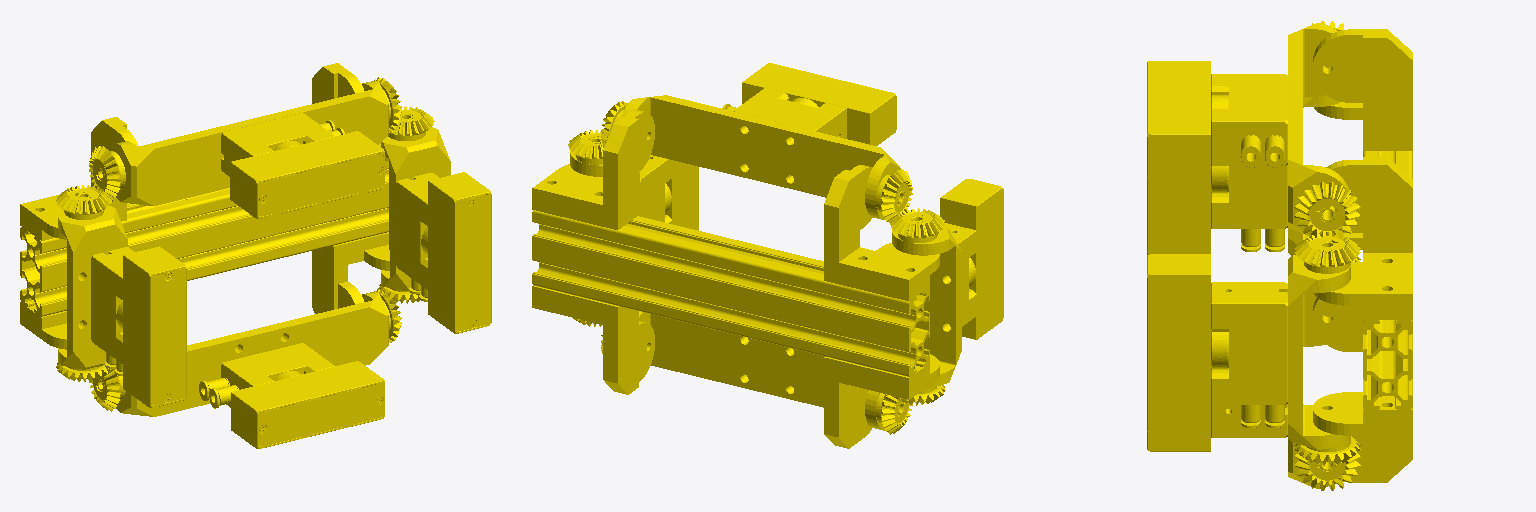
robot.urdf — S20:
<?xml version="1.0" ?>
<!-- =================================================================================== -->
<!-- |    This document was autogenerated by xacro from S20.urdf.xacro                 | -->
<!-- |    EDITING THIS FILE BY HAND IS NOT RECOMMENDED                                 | -->
<!-- =================================================================================== -->
<robot name="S20">
  <material name="black">
    <color rgba="0.0 0.0 0.0 1.0"/>
  </material>
  <material name="blue">
    <color rgba="0.0 0.0 0.8 1.0"/>
  </material>
  <material name="green">
    <color rgba="0.0 0.8 0.0 1.0"/>
  </material>
  <material name="grey">
    <color rgba="0.2 0.2 0.2 1.0"/>
  </material>
  <material name="orange">
    <color rgba="1.0 0.4235294117647059 0.0392156862745098 1.0"/>
  </material>
  <material name="brown">
    <color rgba="0.8705882352941177 0.8117647058823529 0.7647058823529411 1.0"/>
  </material>
  <material name="red">
    <color rgba="0.8 0.0 0.0 1.0"/>
  </material>
  <material name="white">
    <color rgba="1.0 1.0 1.0 1.0"/>
  </material>
  <material name="metal">
    <color rgba="0.768627450980392 0.749019607843137 0.729411764705882 1"/>
  </material>
  <material name="metal_grey">
    <color rgba="0.501960784313725 0.501960784313725 0.501960784313725 1"/>
  </material>
  <material name="metal_white">
    <color rgba="0.866666666666667 0.866666666666667 0.890196078431373 1"/>
  </material>
  <!-- ros_control plugin -->
  <gazebo>
    <plugin filename="libgazebo_ros_control.so" name="gazebo_ros_control">
      <!-- <robotSimType>gazebo_ros_control/DefaultRobotHWSim</robotSimType> -->
      <legacyModeNS>true</legacyModeNS>
    </plugin>
  </gazebo>
  <gazebo reference="elfin_link2">
    <visual name="visual">
      <material>
        <script>
          <uri>file:/[local-path]/scripts/gazebo.material</uri>
          <name>Gazebo/Grey</name>
        </script>
      </material>
    </visual>
  </gazebo>
  <gazebo reference="elfin_link4">
    <visual name="visual">
      <material>
        <script>
          <uri>file:/[local-path]/scripts/gazebo.material</uri>
          <name>Gazebo/Grey</name>
        </script>
      </material>
    </visual>
  </gazebo>
  <transmission name="elfin_joint1_trans">
    <type>transmission_interface/SimpleTransmission</type>
    <joint name="elfin_joint1">
      <hardwareInterface>hardware_interface/PositionJointInterface</hardwareInterface>
    </joint>
    <actuator name="elfin_joint1_motor">
      <mechanicalReduction>1</mechanicalReduction>
    </actuator>
  </transmission>
  <transmission name="elfin_joint2_trans">
    <type>transmission_interface/SimpleTransmission</type>
    <joint name="elfin_joint2">
      <hardwareInterface>hardware_interface/PositionJointInterface</hardwareInterface>
    </joint>
    <actuator name="elfin_joint2_motor">
      <mechanicalReduction>1</mechanicalReduction>
    </actuator>
  </transmission>
  <transmission name="elfin_joint3_trans">
    <type>transmission_interface/SimpleTransmission</type>
    <joint name="elfin_joint3">
      <hardwareInterface>hardware_interface/PositionJointInterface</hardwareInterface>
    </joint>
    <actuator name="elfin_joint3_motor">
      <mechanicalReduction>1</mechanicalReduction>
    </actuator>
  </transmission>
  <transmission name="elfin_joint4_trans">
    <type>transmission_interface/SimpleTransmission</type>
    <joint name="elfin_joint4">
      <hardwareInterface>hardware_interface/PositionJointInterface</hardwareInterface>
    </joint>
    <actuator name="elfin_joint4_motor">
      <mechanicalReduction>1</mechanicalReduction>
    </actuator>
  </transmission>
  <transmission name="elfin_joint5_trans">
    <type>transmission_interface/SimpleTransmission</type>
    <joint name="elfin_joint5">
      <hardwareInterface>hardware_interface/PositionJointInterface</hardwareInterface>
    </joint>
    <actuator name="elfin_joint5_motor">
      <mechanicalReduction>1</mechanicalReduction>
    </actuator>
  </transmission>
  <transmission name="elfin_joint6_trans">
    <type>transmission_interface/SimpleTransmission</type>
    <joint name="elfin_joint6">
      <hardwareInterface>hardware_interface/PositionJointInterface</hardwareInterface>
    </joint>
    <actuator name="elfin_joint6_motor">
      <mechanicalReduction>1</mechanicalReduction>
    </actuator>
  </transmission>
  <link name="world"/>
  <joint name="world_base" type="fixed">
    <origin rpy="0 0 0" xyz="0 0 0"/>
    <parent link="world"/>
    <child link="elfin_base_link"/>
  </joint>
  <link name="elfin_base_link"/>
  <joint name="elfin_base_joint" type="fixed">
    <origin rpy="0 0 0" xyz="0 0 0"/>
    <parent link="elfin_base_link"/>
    <child link="elfin_base"/>
  </joint>
  <link name="elfin_base">
    <inertial>
      <origin rpy="0 0 0" xyz="-0.00131650768656017 3.86349405459754E-05 0.0343213199540785"/>
      <mass value="2.32181468230125"/>
      <inertia ixx="0.00741739022505177" ixy="-9.4225231258528E-05" ixz="-5.45619950886553E-05" iyy="0.00699483778046143" iyz="1.30022773204213E-06" izz="0.0123390065438587"/>
    </inertial>
    <visual>
      <origin rpy="0 0 0" xyz="0 0 0"/>
      <geometry>
        <mesh filename="package://elfin_description/meshes/S20/elfin_base.STL"/>
      </geometry>
      <material name="">
        <color rgba="0.752941176470588 0.752941176470588 0.752941176470588 1"/>
      </material>
    </visual>
    <collision>
      <origin rpy="0 0 0" xyz="0 0 0"/>
      <geometry>
        <mesh filename="package://elfin_description/meshes/S20/elfin_base.STL"/>
      </geometry>
    </collision>
  </link>
  <link name="elfin_link1">
    <inertial>
      <origin rpy="0 0 0" xyz="-1.0792519167212E-07 -0.0224399626110038 0.00175002240516534"/>
      <mass value="6.93455742496729"/>
      <inertia ixx="0.0460589183335357" ixy="5.43718136375216E-07" ixz="2.96738634298801E-07" iyy="0.0375916708812216" iyz="-0.000245581780149179" izz="0.0394268304468804"/>
    </inertial>
    <visual>
      <origin rpy="0 0 0" xyz="0 0 0"/>
      <geometry>
        <mesh filename="package://elfin_description/meshes/S20/elfin_link1.STL"/>
      </geometry>
      <material name="">
        <color rgba="0.898039215686275 0.917647058823529 0.929411764705882 1"/>
      </material>
    </visual>
    <collision>
      <origin rpy="0 0 0" xyz="0 0 0"/>
      <geometry>
        <mesh filename="package://elfin_description/meshes/S20/elfin_link1.STL"/>
      </geometry>
    </collision>
  </link>
  <joint name="elfin_joint1" type="revolute">
    <origin rpy="0 0 0" xyz="0 0 0.171"/>
    <parent link="elfin_base"/>
    <child link="elfin_link1"/>
    <axis xyz="0 0 1"/>
    <limit effort="200" lower="-6.28" upper="6.28" velocity="1.57"/>
  </joint>
  <link name="elfin_link2">
    <inertial>
      <origin rpy="0 0 0" xyz="-0.370229694350317 9.38128437405483E-07 0.000899041883029139"/>
      <mass value="18.8395085758056"/>
      <inertia ixx="0.0687507132351259" ixy="-5.05507420279161E-07" ixz="-6.41343868263508E-05" iyy="0.411200291693132" iyz="-1.80729528146994E-07" izz="0.40138597350588"/>
    </inertial>
    <visual>
      <origin rpy="0 0 0" xyz="0 0 0"/>
      <geometry>
        <mesh filename="package://elfin_description/meshes/S20/elfin_link2.STL"/>
      </geometry>
      <material name="">
        <color rgba="0.752941176470588 0.752941176470588 0.752941176470588 1"/>
      </material>
    </visual>
    <collision>
      <origin rpy="0 0 0" xyz="0 0 0"/>
      <geometry>
        <mesh filename="package://elfin_description/meshes/S20/elfin_link2.STL"/>
      </geometry>
    </collision>
  </link>
  <joint name="elfin_joint2" type="revolute">
    <origin rpy="1.5708 0 0" xyz="0 -0.2295 0"/>
    <parent link="elfin_link1"/>
    <child link="elfin_link2"/>
    <axis xyz="0 0 1"/>
    <limit effort="200" lower="-3.3158" upper="0.1745" velocity="1.57"/>
  </joint>
  <link name="elfin_link3">
    <inertial>
      <origin rpy="0 0 0" xyz="0.310973076601113 -4.7405306624615E-09 0.0109938899740937"/>
      <mass value="7.53508270364931"/>
      <inertia ixx="0.0133872719937165" ixy="1.91460600478011E-07" ixz="0.00152175061957157" iyy="0.11837455186459" iyz="-2.26041817837737E-08" izz="0.116582348081593"/>
    </inertial>
    <visual>
      <origin rpy="0 0 0" xyz="0 0 0"/>
      <geometry>
        <mesh filename="package://elfin_description/meshes/S20/elfin_link3.STL"/>
      </geometry>
      <material name="">
        <color rgba="0.752941176470588 0.752941176470588 0.752941176470588 1"/>
      </material>
    </visual>
    <collision>
      <origin rpy="0 0 0" xyz="0 0 0"/>
      <geometry>
        <mesh filename="package://elfin_description/meshes/S20/elfin_link3.STL"/>
      </geometry>
    </collision>
  </link>
  <joint name="elfin_joint3" type="revolute">
    <origin rpy="0 0 3.1416" xyz="-0.85 0 -0.1885"/>
    <parent link="elfin_link2"/>
    <child link="elfin_link3"/>
    <axis xyz="0 0 1"/>
    <limit effort="200" lower="-2.9319" upper="2.9319" velocity="1.57"/>
  </joint>
  <link name="elfin_link4">
    <inertial>
      <origin rpy="0 0 0" xyz="8.5204157129759E-07 -0.00559612992738279 0.124499710924349"/>
      <mass value="1.26777180180805"/>
      <inertia ixx="0.00300888445161096" ixy="1.64612435809042E-08" ixz="3.62281943568331E-08" iyy="0.00214465218602862" iyz="9.35786831203314E-05" izz="0.00239761638151984"/>
    </inertial>
    <visual>
      <origin rpy="0 0 0" xyz="0 0 0"/>
      <geometry>
        <mesh filename="package://elfin_description/meshes/S20/elfin_link4.STL"/>
      </geometry>
      <material name="">
        <color rgba="0.898039215686275 0.917647058823529 0.929411764705882 1"/>
      </material>
    </visual>
    <collision>
      <origin rpy="0 0 0" xyz="0 0 0"/>
      <geometry>
        <mesh filename="package://elfin_description/meshes/S20/elfin_link4.STL"/>
      </geometry>
    </collision>
  </link>
  <joint name="elfin_joint4" type="revolute">
    <origin rpy="0 0 0" xyz="0.712 0 0"/>
    <parent link="elfin_link3"/>
    <child link="elfin_link4"/>
    <axis xyz="0 0 1"/>
    <limit effort="104" lower="-6.28" upper="6.28" velocity="1.57"/>
  </joint>
  <link name="elfin_link5">
    <inertial>
      <origin rpy="0 0 0" xyz="-1.58900480728974E-06 0.00559613044782842 0.124499711309393"/>
      <mass value="1.26777180180803"/>
      <inertia ixx="0.00300888445161093" ixy="1.64612435696446E-08" ixz="-3.62281943491141E-08" iyy="0.00214465218602857" iyz="-9.35786831203246E-05" izz="0.00239761638151982"/>
    </inertial>
    <visual>
      <origin rpy="0 0 0" xyz="0 0 0"/>
      <geometry>
        <mesh filename="package://elfin_description/meshes/S20/elfin_link5.STL"/>
      </geometry>
      <material name="">
        <color rgba="0.752941176470588 0.752941176470588 0.752941176470588 1"/>
      </material>
    </visual>
    <collision>
      <origin rpy="0 0 0" xyz="0 0 0"/>
      <geometry>
        <mesh filename="package://elfin_description/meshes/S20/elfin_link5.STL"/>
      </geometry>
    </collision>
  </link>
  <joint name="elfin_joint5" type="revolute">
    <origin rpy="-1.5708 0 0" xyz="0 0 0.138"/>
    <parent link="elfin_link4"/>
    <child link="elfin_link5"/>
    <axis xyz="0 0 1"/>
    <limit effort="34" lower="-6.28" upper="6.28" velocity="1.57"/>
  </joint>
  <link name="elfin_link6">
    <inertial>
      <origin rpy="0 0 0" xyz="-7.47115137089693E-07 0.000102435646244473 0.0904183015693256"/>
      <mass value="0.468079508708449"/>
      <inertia ixx="0.000412770805513074" ixy="1.60636639637837E-08" ixz="-3.02343967687703E-08" iyy="0.000415704740293176" iyz="1.46595766333508E-07" izz="0.000530952415351683"/>
    </inertial>
    <visual>
      <origin rpy="0 0 0" xyz="0 0 0"/>
      <geometry>
        <mesh filename="package://elfin_description/meshes/S20/elfin_link6.STL"/>
      </geometry>
      <material name="">
        <color rgba="0.752941176470588 0.752941176470588 0.752941176470588 1"/>
      </material>
    </visual>
    <collision>
      <origin rpy="0 0 0" xyz="0 0 0"/>
      <geometry>
        <mesh filename="package://elfin_description/meshes/S20/elfin_link6.STL"/>
      </geometry>
    </collision>
  </link>
  <joint name="elfin_joint6" type="revolute">
    <origin rpy="1.5708 0 0" xyz="0 0 0.138"/>
    <parent link="elfin_link5"/>
    <child link="elfin_link6"/>S20_with_gripper_48cm
    <axis xyz="0 0 1"/>
    <limit effort="34" lower="-6.28" upper="6.28" velocity="1.57"/>
  </joint>
  <link name="elfin_end_link">
  </link>
  <joint name="elfin_end_joint" type="fixed">
    <origin rpy="0 0 3.1416" xyz="0 0 0.1257"/>
    <parent link="elfin_link6"/>
    <child link="elfin_end_link"/>
  </joint>
  <link name="elfin_dummy_gripper"/>
  <joint name="elfin_dummy_joint" type="fixed">
    <origin rpy="1.5707963267948966 1.5707963267948966 0" xyz="0 -0.0935 0"/>
    <parent link="elfin_link6"/>
    <child link="elfin_dummy_gripper"/>
  </joint>
  <link name="needle_gripper">
    <visual>
      <origin rpy="0 0 0" xyz="0 0 0"/>
      <geometry>
        <mesh filename="package://elfin_description/meshes/S20/needle_gripper.STL"/>
      </geometry>
      <material name="">
        <color rgba="1.0 0.92 0.016 1"/>
      </material>
    </visual>
    <collision>
      <origin rpy="0 0 0" xyz="0 0 0"/>
      <geometry>
        <mesh filename="package://elfin_description/meshes/S20/needle_gripper.STL"/>
      </geometry>
    </collision>
  </link>
  <joint name="gripper_joint" type="fixed">
    <origin rpy="-1.5708 0 0" xyz="0 0 0.08"/>
    <parent link="elfin_end_link"/>
    <child link="needle_gripper"/>
  </joint>
</robot>

--- What the picture shows (computed from the rendered views, not written in the file) ---
Views: 3 orthographic renders of the robot side by side, from view 1: azimuth 30°, elevation 25°; view 2: azimuth 150°, elevation 25°; view 3: azimuth 270°, elevation 25°.
Robot: S20 — 12 links, 11 joints (6 revolute, 5 fixed); root link world; default pose: all joints at 0.
Links seen in each view (by area): view 1: needle_gripper; view 2: needle_gripper; view 3: needle_gripper.
Boxes of the visible links, <box> form: needle_gripper: <box>20,63,491,448</box>; needle_gripper: <box>532,63,1003,448</box>; needle_gripper: <box>1147,21,1412,490</box>.
Bounding box of the posed robot: 0.206 × 0.106 × 0.14 m (x, y, z).
1 mesh visuals loaded from 8 distinct referenced files (1 binary STL); not drawn: 7 (reference not matched to a file when rendering).